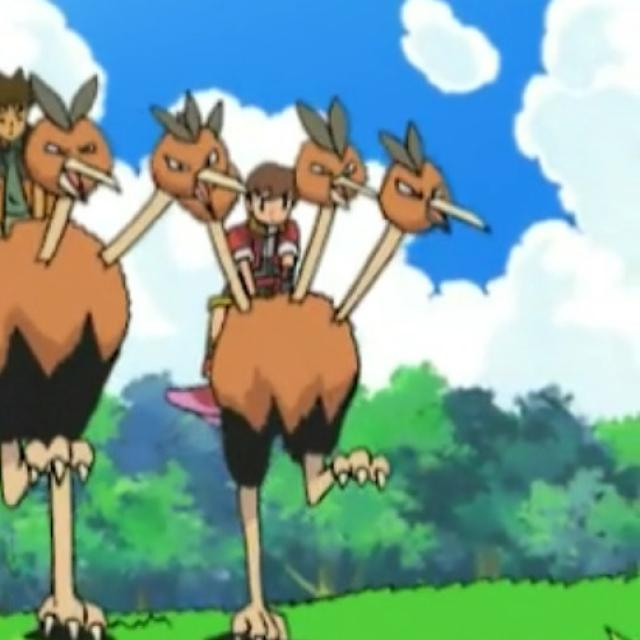Dodrio: (152, 100, 464, 639), (0, 73, 230, 640)
